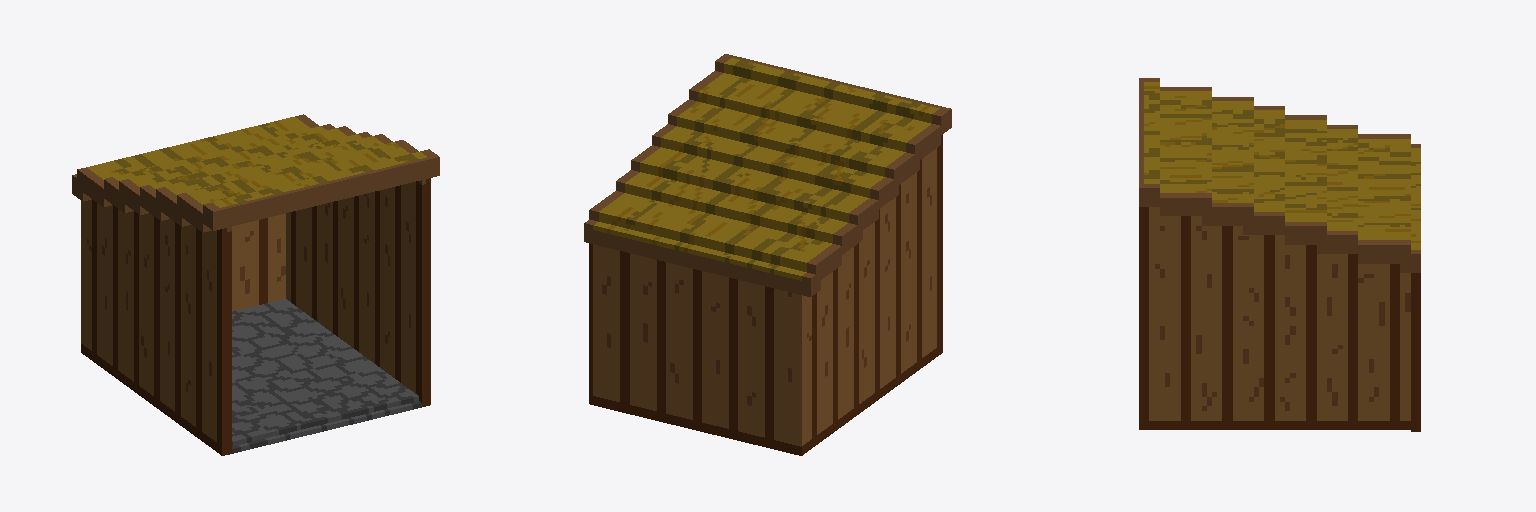
The picture shows the model from 3 angles: view 1: azimuth 30°, elevation 25°; view 2: azimuth 150°, elevation 25°; view 3: azimuth 270°, elevation 25°; orthographic projection.
Parts seen in each view (by area): view 1: object 1; view 2: object 1; view 3: object 1.
Boxes of the visible parts, x1,y1,x2,y2 form: object 1: [72, 114, 439, 455]; object 1: [584, 54, 951, 455]; object 1: [1139, 78, 1420, 431].
Size of the model in its own units: 5 by 5.2 by 5.4.
1 materials, 1 textured.